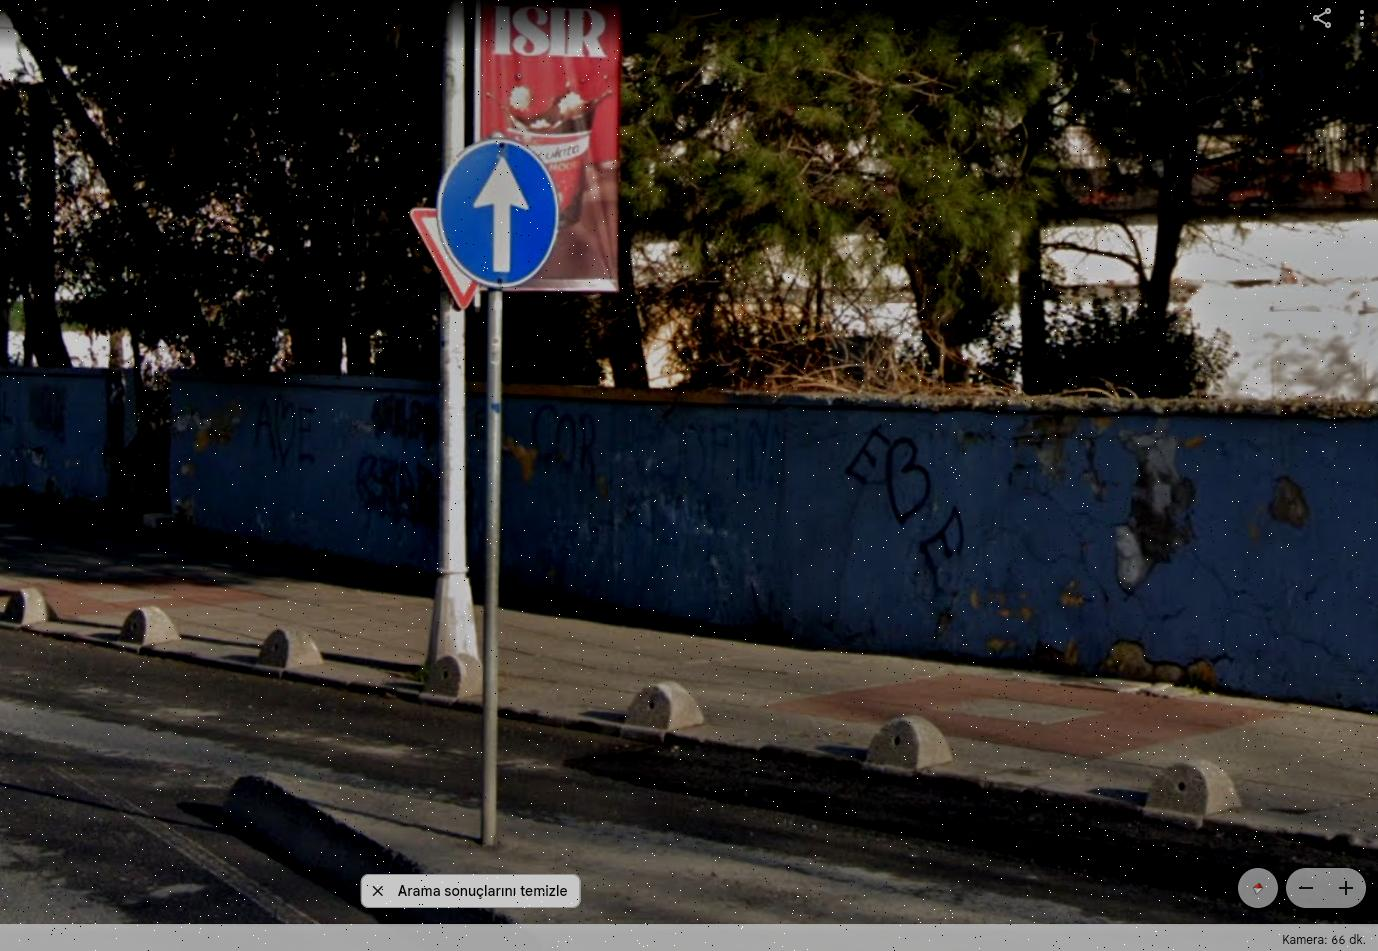forward: (438, 139, 559, 287)
